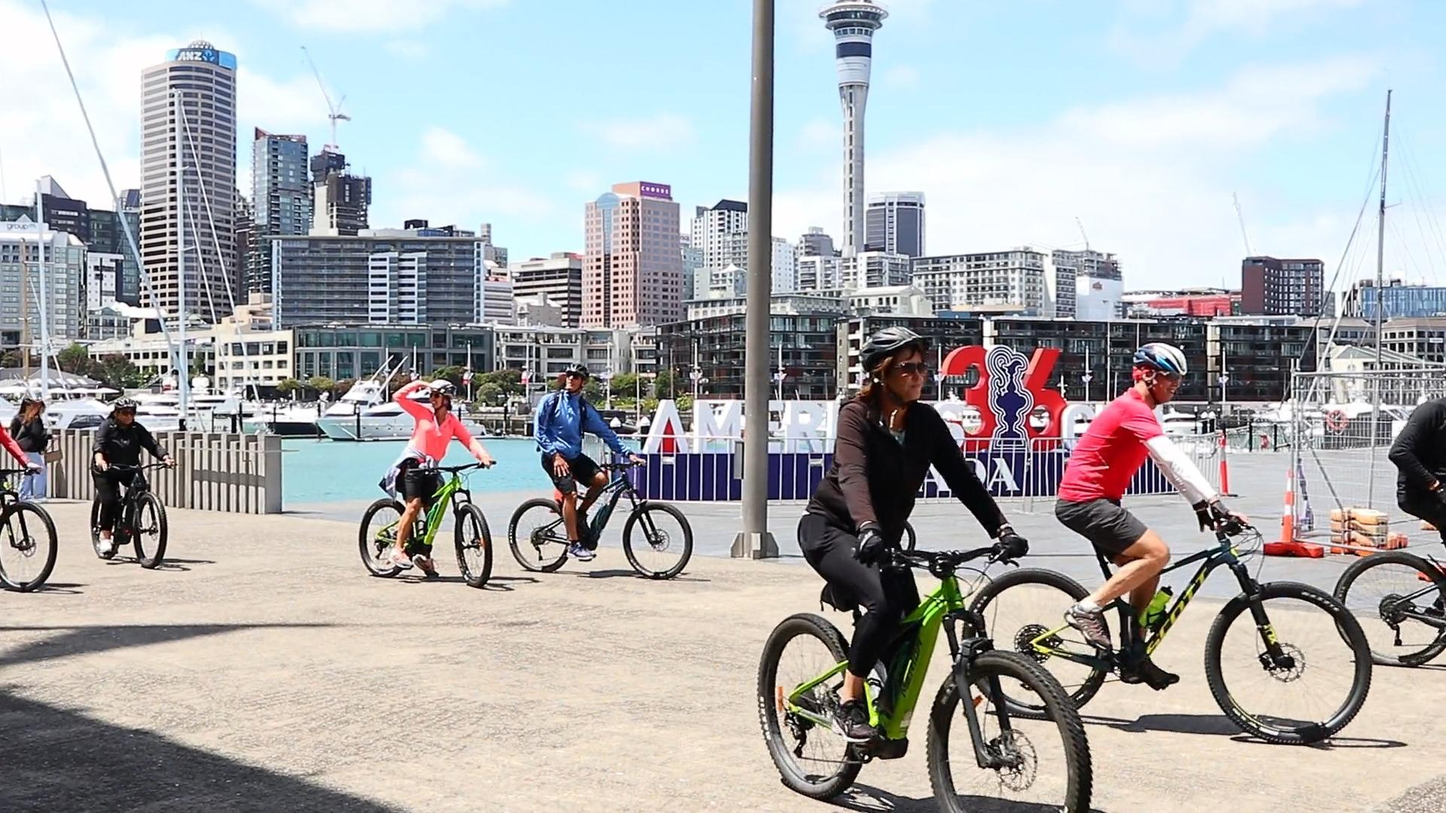bicyclist: (965, 341, 1372, 746), (761, 325, 1093, 813), (509, 363, 693, 580), (359, 379, 498, 588), (91, 397, 179, 569)
helmet: (859, 325, 927, 411), (1132, 341, 1188, 405), (429, 379, 457, 416), (565, 363, 589, 393), (113, 397, 137, 426)
